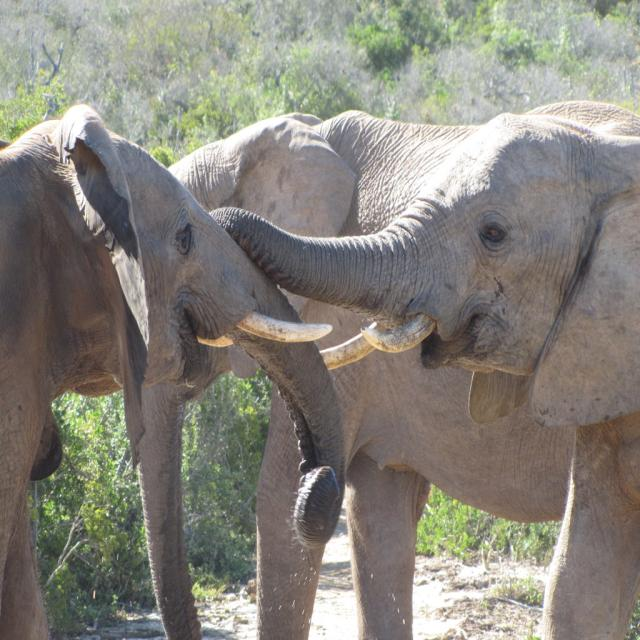Elephant: (173, 99, 639, 639), (0, 102, 346, 639)
